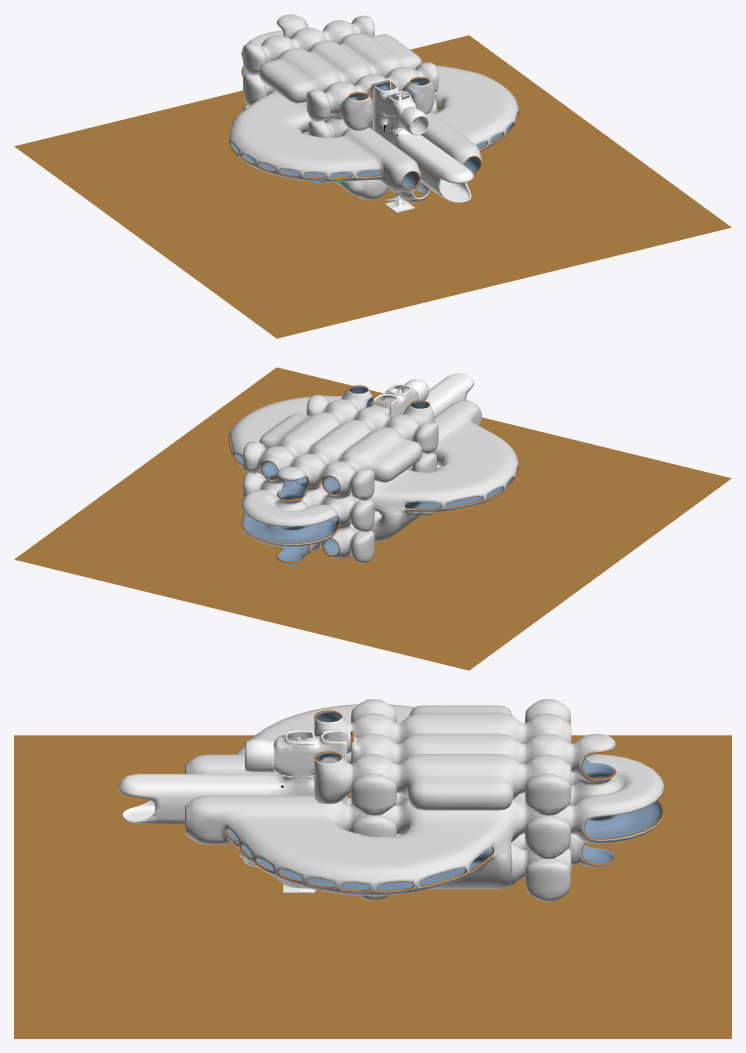
Rendered from spaceShip2.glb.
3 renders of one model, top to bottom at view 1: azimuth 30°, elevation 25°; view 2: azimuth 150°, elevation 25°; view 3: azimuth 270°, elevation 25°, orthographic. The views are drawn at different scales.
Visible parts, largest first — view 1: Plane, spaceship, body lower deck floor.020; view 2: Plane, spaceship, body lower deck floor.020; view 3: Plane, spaceship, body lower deck floor.020.
Part boxes in pixels (x1=…): Plane: x1=14, y1=35, x2=731, y2=338; spaceship: x1=228, y1=14, x2=518, y2=200; body lower deck floor.020: x1=373, y1=81, x2=473, y2=202; Plane: x1=14, y1=367, x2=731, y2=670; spaceship: x1=228, y1=385, x2=518, y2=564; body lower deck floor.020: x1=373, y1=373, x2=474, y2=417; Plane: x1=14, y1=735, x2=731, y2=1038; spaceship: x1=185, y1=699, x2=664, y2=901; body lower deck floor.020: x1=118, y1=730, x2=347, y2=867.
Bounding box in the file's own units: 40 × 9.29 × 40.
